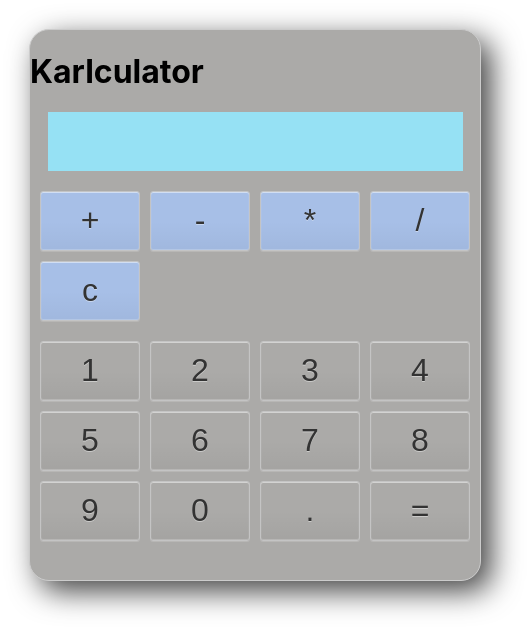
should display 6 when the user enters 3 * 2
Step 1. Click the button "3" → [310, 371], box [260,341,360,401]
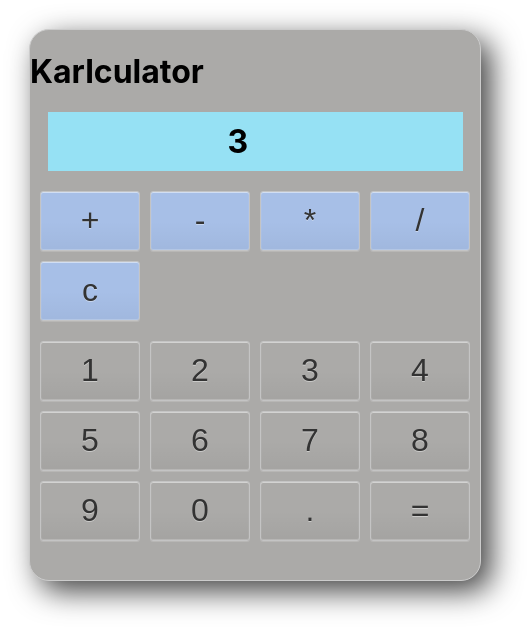
Step 2. Click the button "*" → [310, 221], box [260,191,360,251]
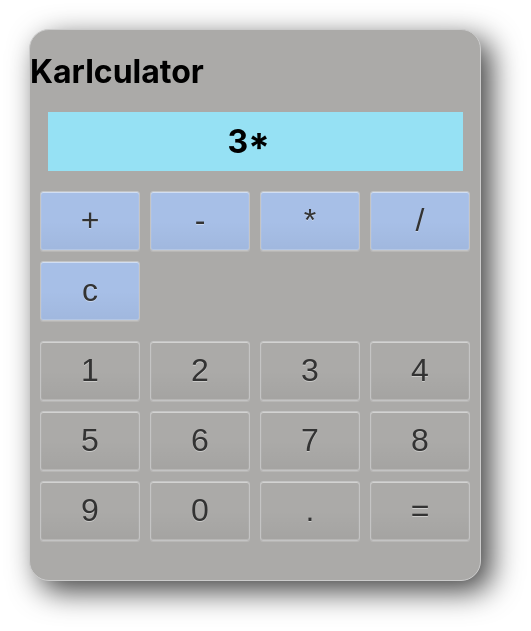
Step 3. Click the button "2" → [200, 371], box [150,341,250,401]
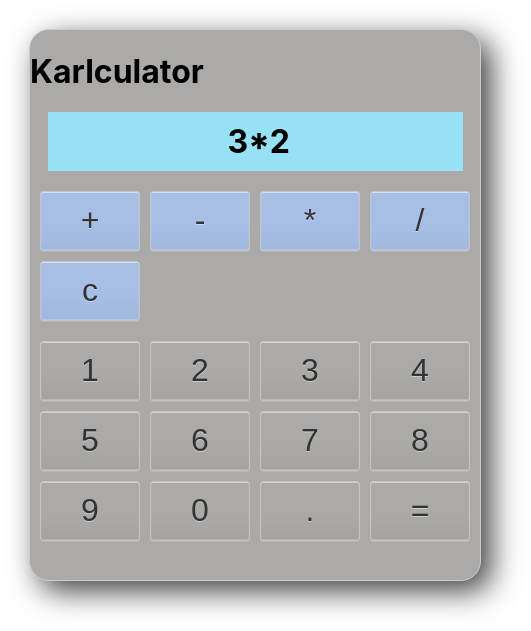
Step 4. Click the button "=" → [420, 511], box [370,481,470,541]
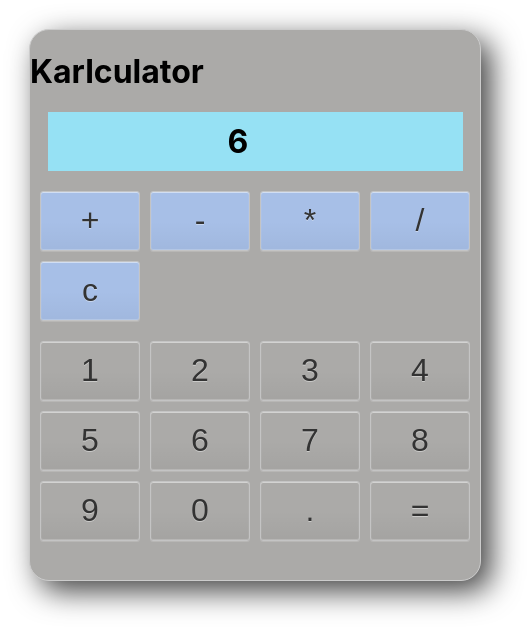
Now the heading with test id "display" reads "6", box [228,122,248,161]
